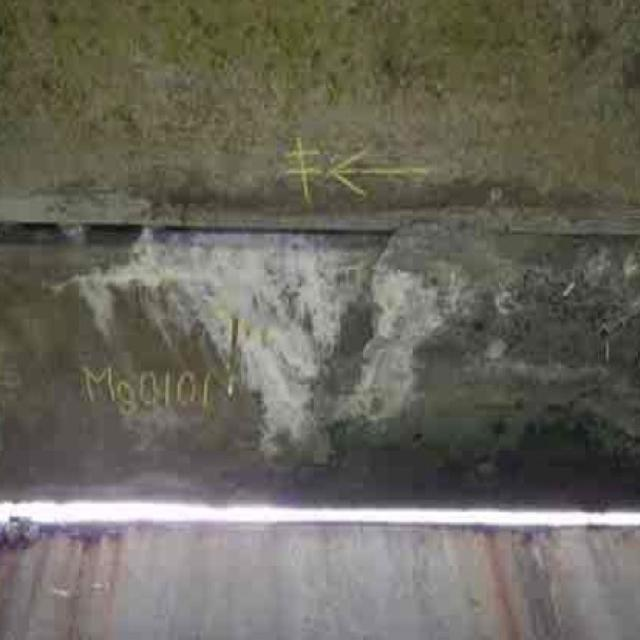freelime: (86, 210, 433, 446)
